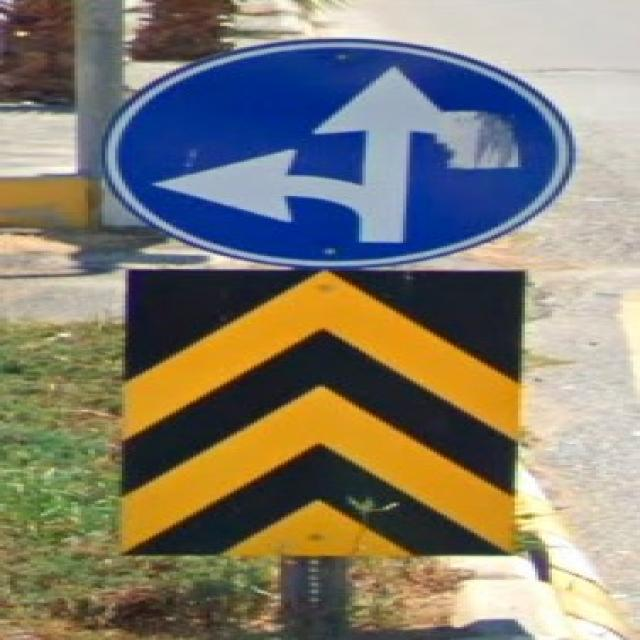Straight or Left: (101, 37, 575, 267)
